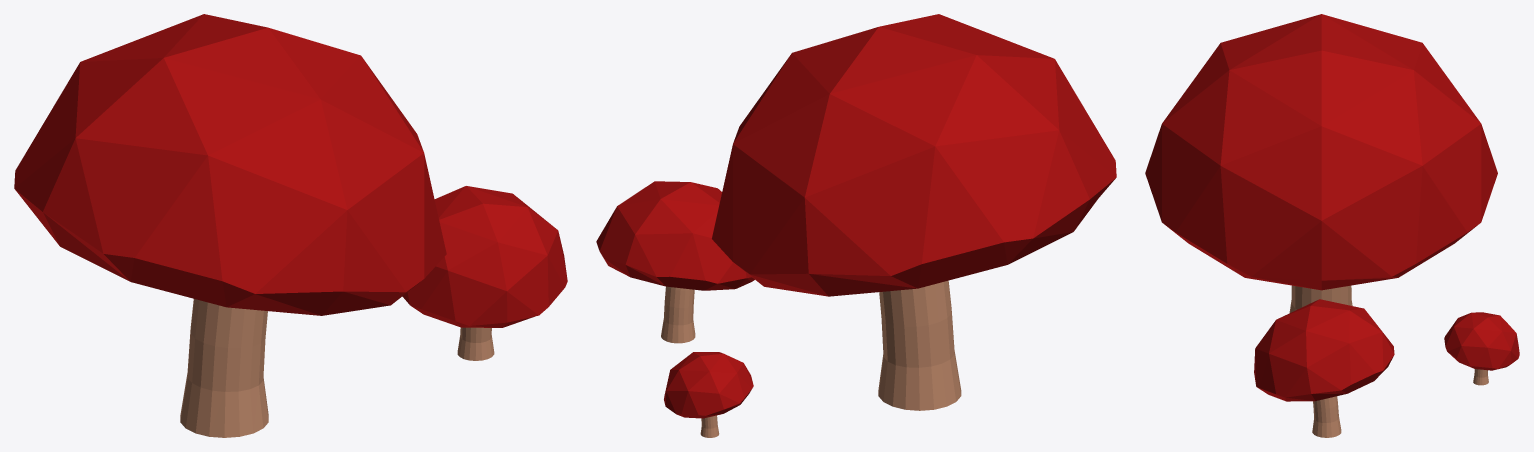
File: home-shrooms.fbx
3 views of the same model, side by side, from view 1: azimuth 30°, elevation 25°; view 2: azimuth 150°, elevation 25°; view 3: azimuth 270°, elevation 25° (orthographic). The views are drawn at different scales.
Visible parts, largest first — view 1: GeoSphere001, GeoSphere002; view 2: GeoSphere001, GeoSphere002, GeoSphere003; view 3: GeoSphere001, GeoSphere002, GeoSphere003.
Part boxes in pixels (x1=…): GeoSphere001: x1=14, y1=14, x2=446, y2=437; GeoSphere002: x1=402, y1=186, x2=567, y2=360; GeoSphere001: x1=712, y1=14, x2=1116, y2=410; GeoSphere002: x1=596, y1=181, x2=754, y2=343; GeoSphere003: x1=664, y1=352, x2=753, y2=437; GeoSphere001: x1=1145, y1=14, x2=1497, y2=312; GeoSphere002: x1=1254, y1=299, x2=1394, y2=437; GeoSphere003: x1=1444, y1=312, x2=1519, y2=385.
Size of the model in its own units: 38.21 by 27 by 30.47.
